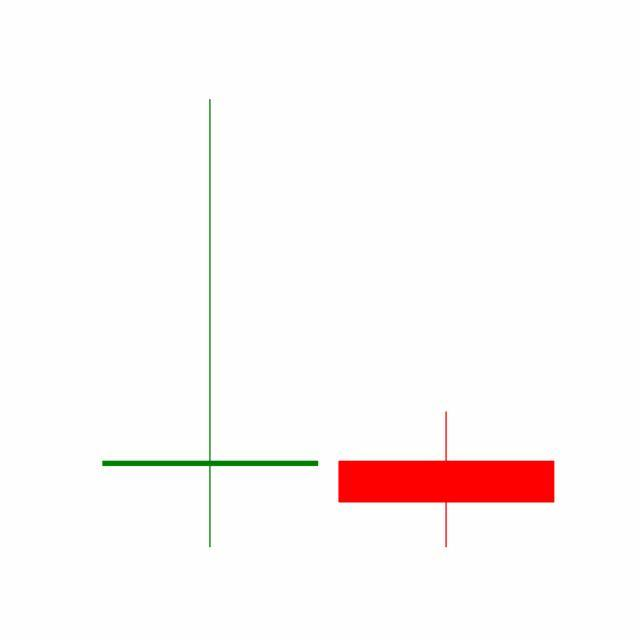Spinning Top: (328, 411, 566, 550)
